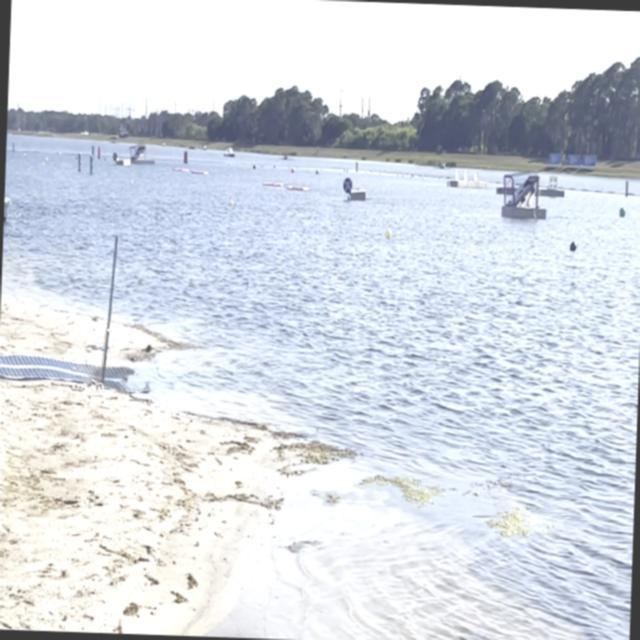buoy: (384, 227, 392, 241), (618, 205, 626, 218), (568, 240, 576, 252), (229, 198, 233, 206), (290, 167, 294, 174), (314, 168, 318, 175), (252, 163, 255, 170)
